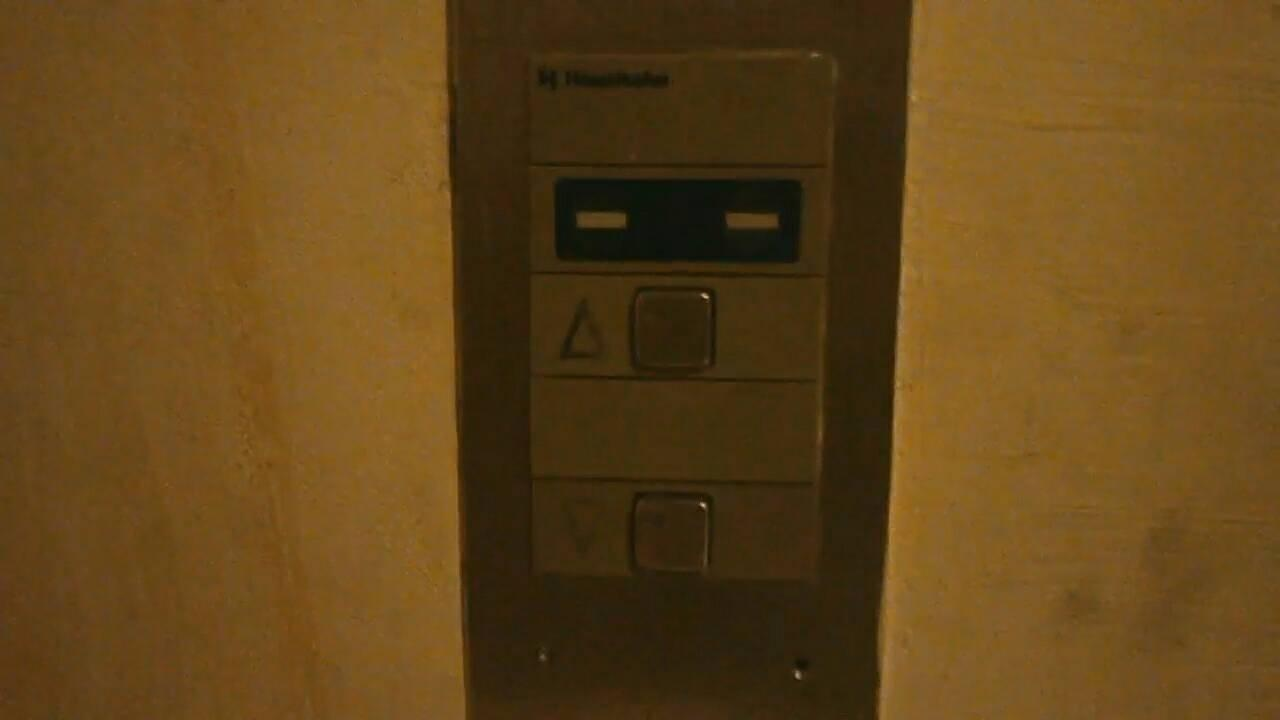down: (524, 471, 825, 591)
up: (523, 267, 833, 383)
